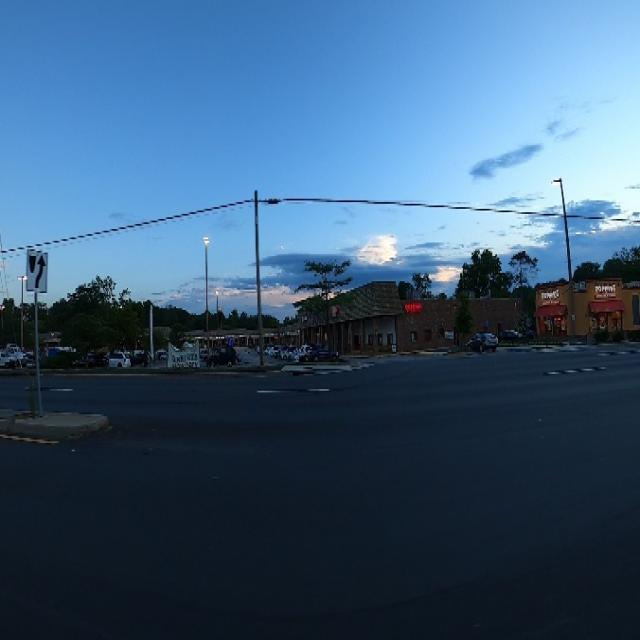cars: (465, 322, 498, 364), (496, 316, 525, 349)
